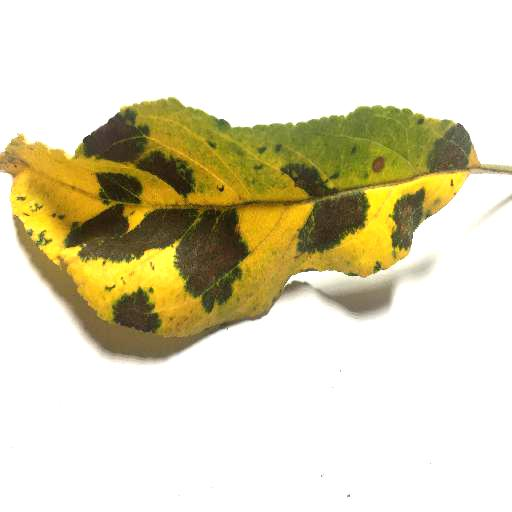Brown_Spot: (33, 118, 249, 349), (281, 148, 377, 248), (424, 122, 486, 175), (389, 189, 439, 252)
